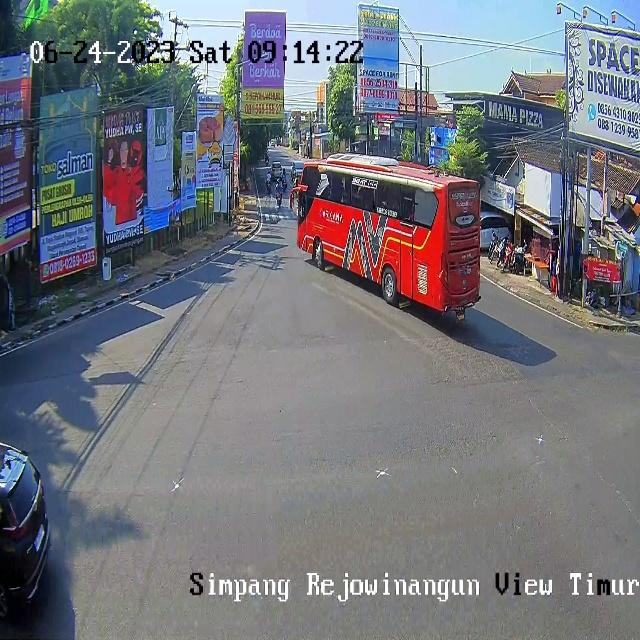bus: (276, 193, 282, 208), (267, 181, 272, 193), (282, 179, 286, 193)
car: (297, 153, 479, 313)
motorcycle: (0, 440, 50, 613), (479, 212, 511, 253), (271, 162, 282, 178), (292, 160, 303, 176)
